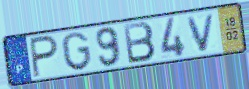4: (159, 16, 187, 59)
9: (94, 26, 123, 69)
B: (121, 20, 158, 66)
G: (60, 30, 94, 72)
P: (28, 34, 60, 80)
V: (185, 11, 217, 54)
